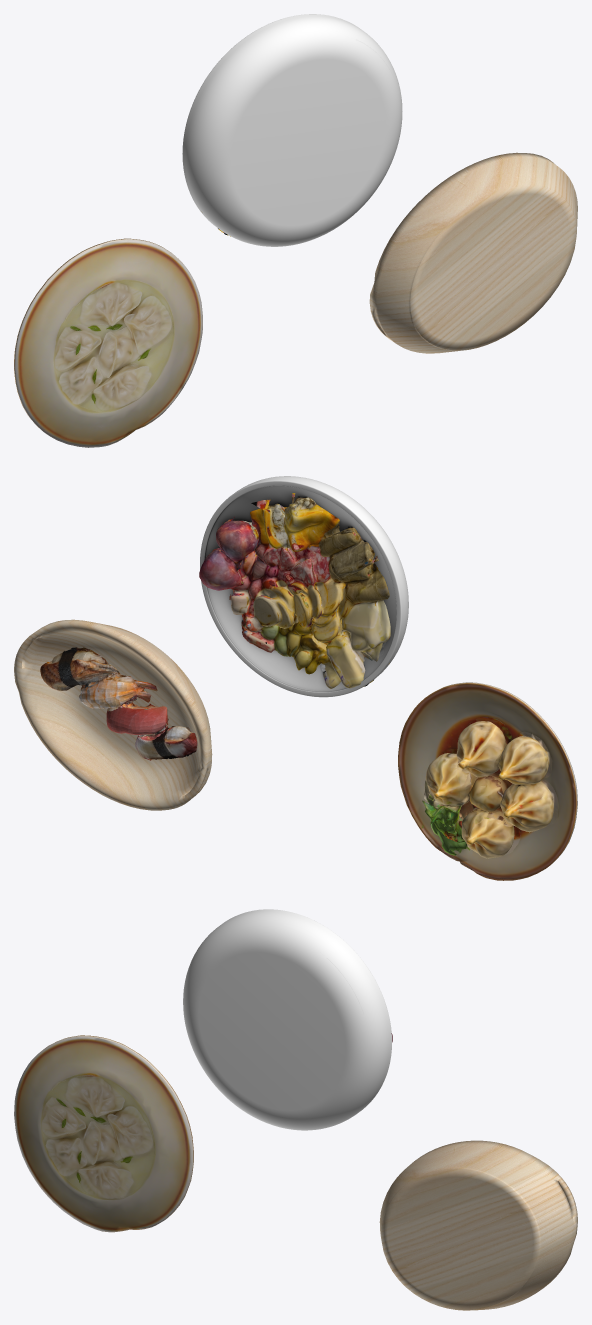
Rendered from doggy.glb.
The picture shows the model from 3 angles, top to bottom: view 1: azimuth 30°, elevation 25°; view 2: azimuth 150°, elevation 25°; view 3: azimuth 330°, elevation 25°; orthographic projection. The views are drawn at different scales.
Parts seen in each view (by area): view 1: BOWL.002, Retopo_Object_2, temp; view 2: temp, Retopo_MEZE_PLATE_300K.001, Retopo_Object_2, BOWL.002, Retopo_sushiboat1_200k_4kt.002; view 3: BOWL.002, temp, Retopo_Object_2.
Boxes of the visible parts, x1,y1,x2,y2 form: BOWL.002: (182,14,402,246); Retopo_Object_2: (369,152,577,353); temp: (14,238,202,447); temp: (398,682,577,880); Retopo_MEZE_PLATE_300K.001: (199,493,390,688); Retopo_Object_2: (14,619,212,810); BOWL.002: (200,476,408,697); Retopo_sushiboat1_200k_4kt.002: (40,647,197,760); BOWL.002: (183,909,391,1130); temp: (14,1035,193,1232); Retopo_Object_2: (379,1140,577,1310).
Bounding box in the file's own units: 0.4006 × 0.251 × 0.0462.
Materials: 5 (5 with a texture image).
